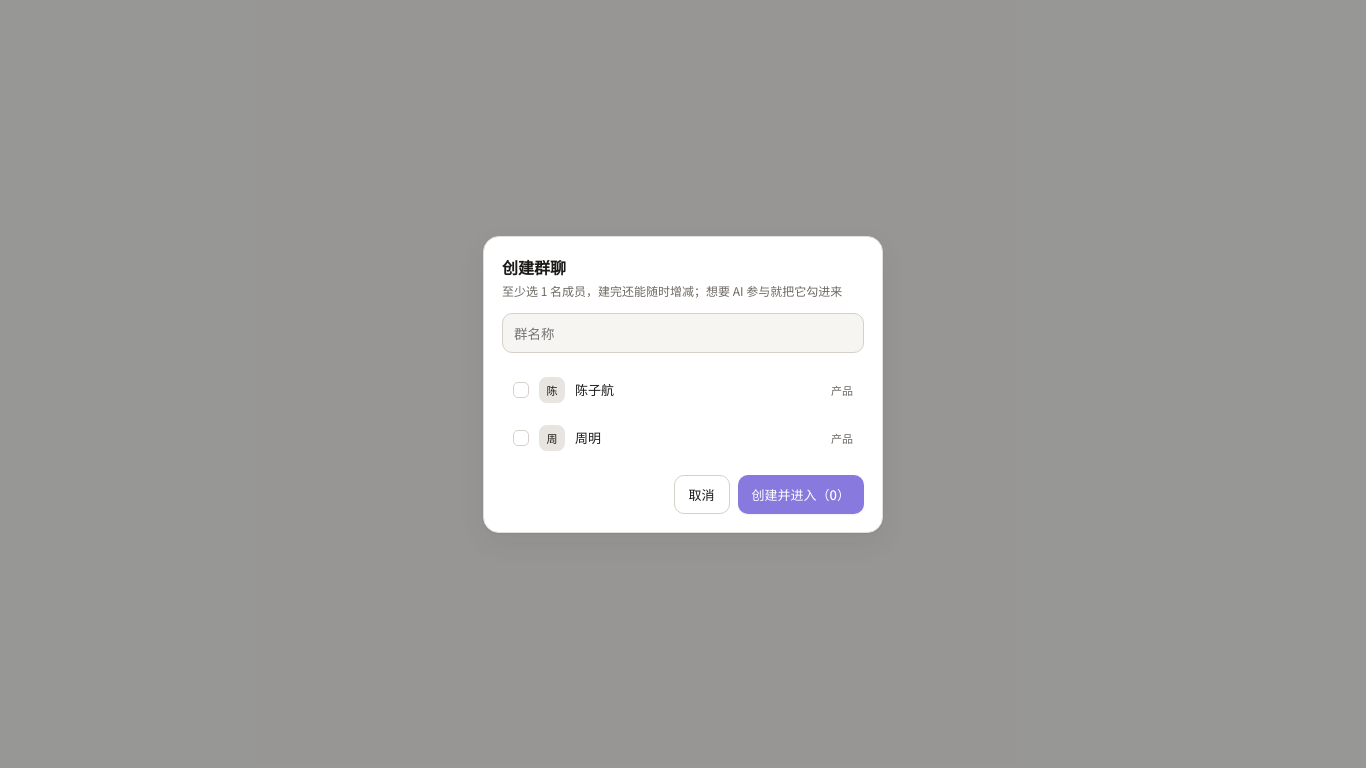
建群成功后的会话跳转 › 创建失败时弹窗保持打开并提示错误
Click the text "陈子航": (594, 390) [575,380,614,399]
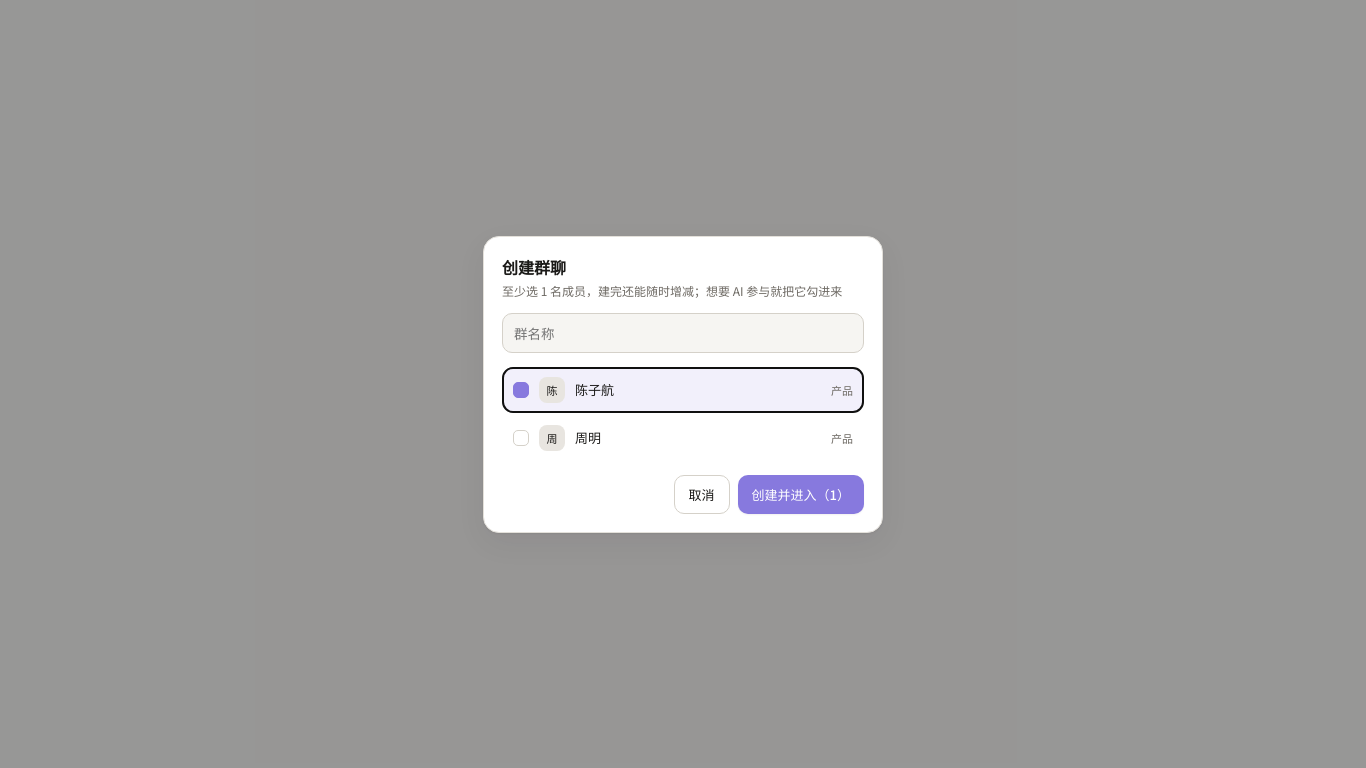
Click the text "周明": (588, 438) [575,428,601,447]
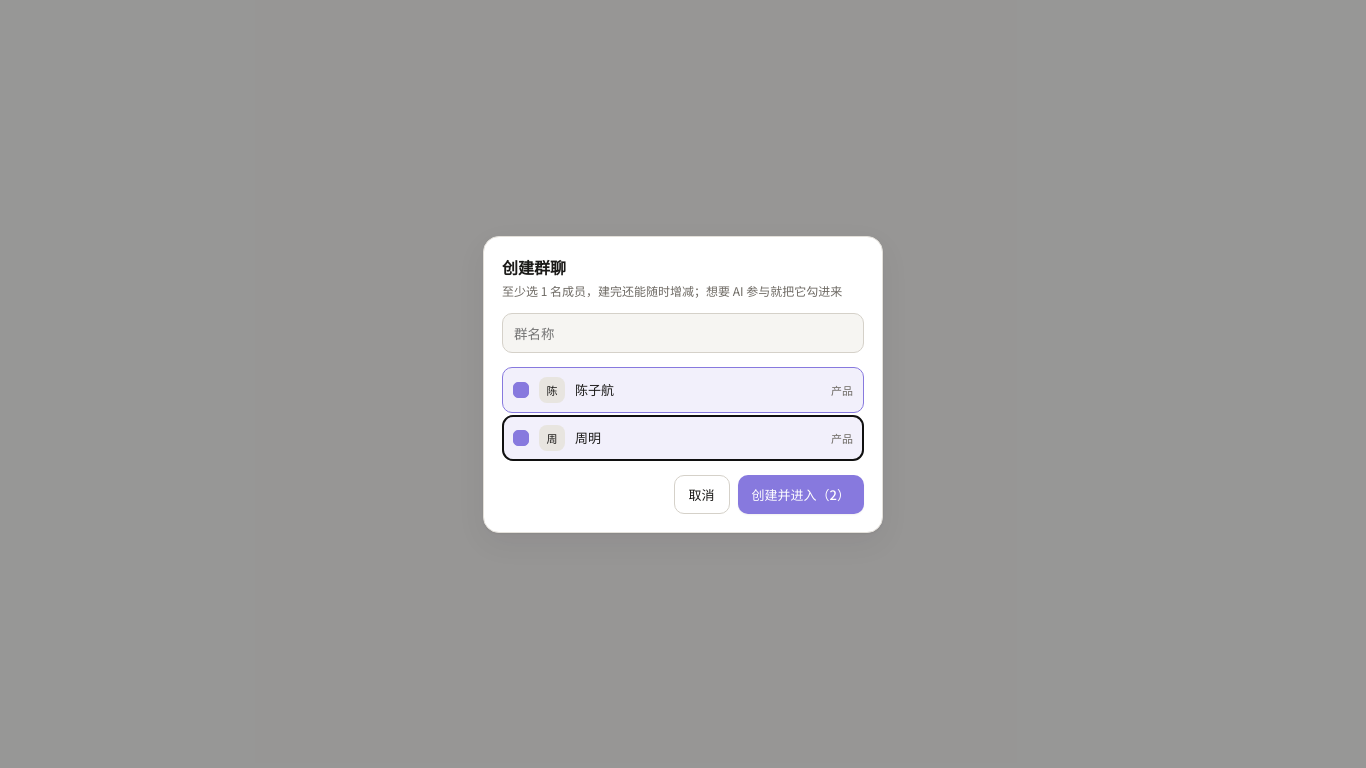
Click the button "创建并进入（2）": (801, 494) [738,474,864,514]
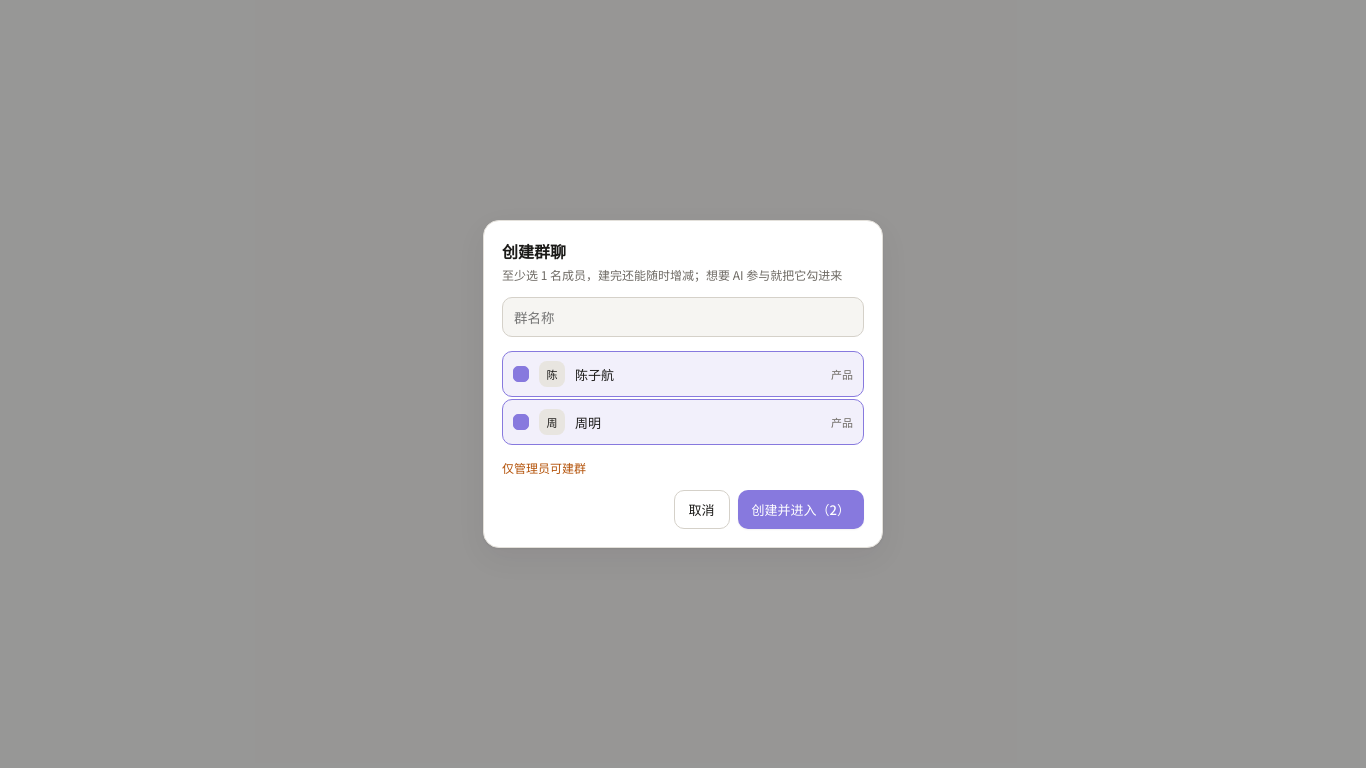
Expected: the text "创建群聊" is shown, [502,239,566,263]
Expected: the text "仅管理员可建群" is shown, [502,459,586,476]
